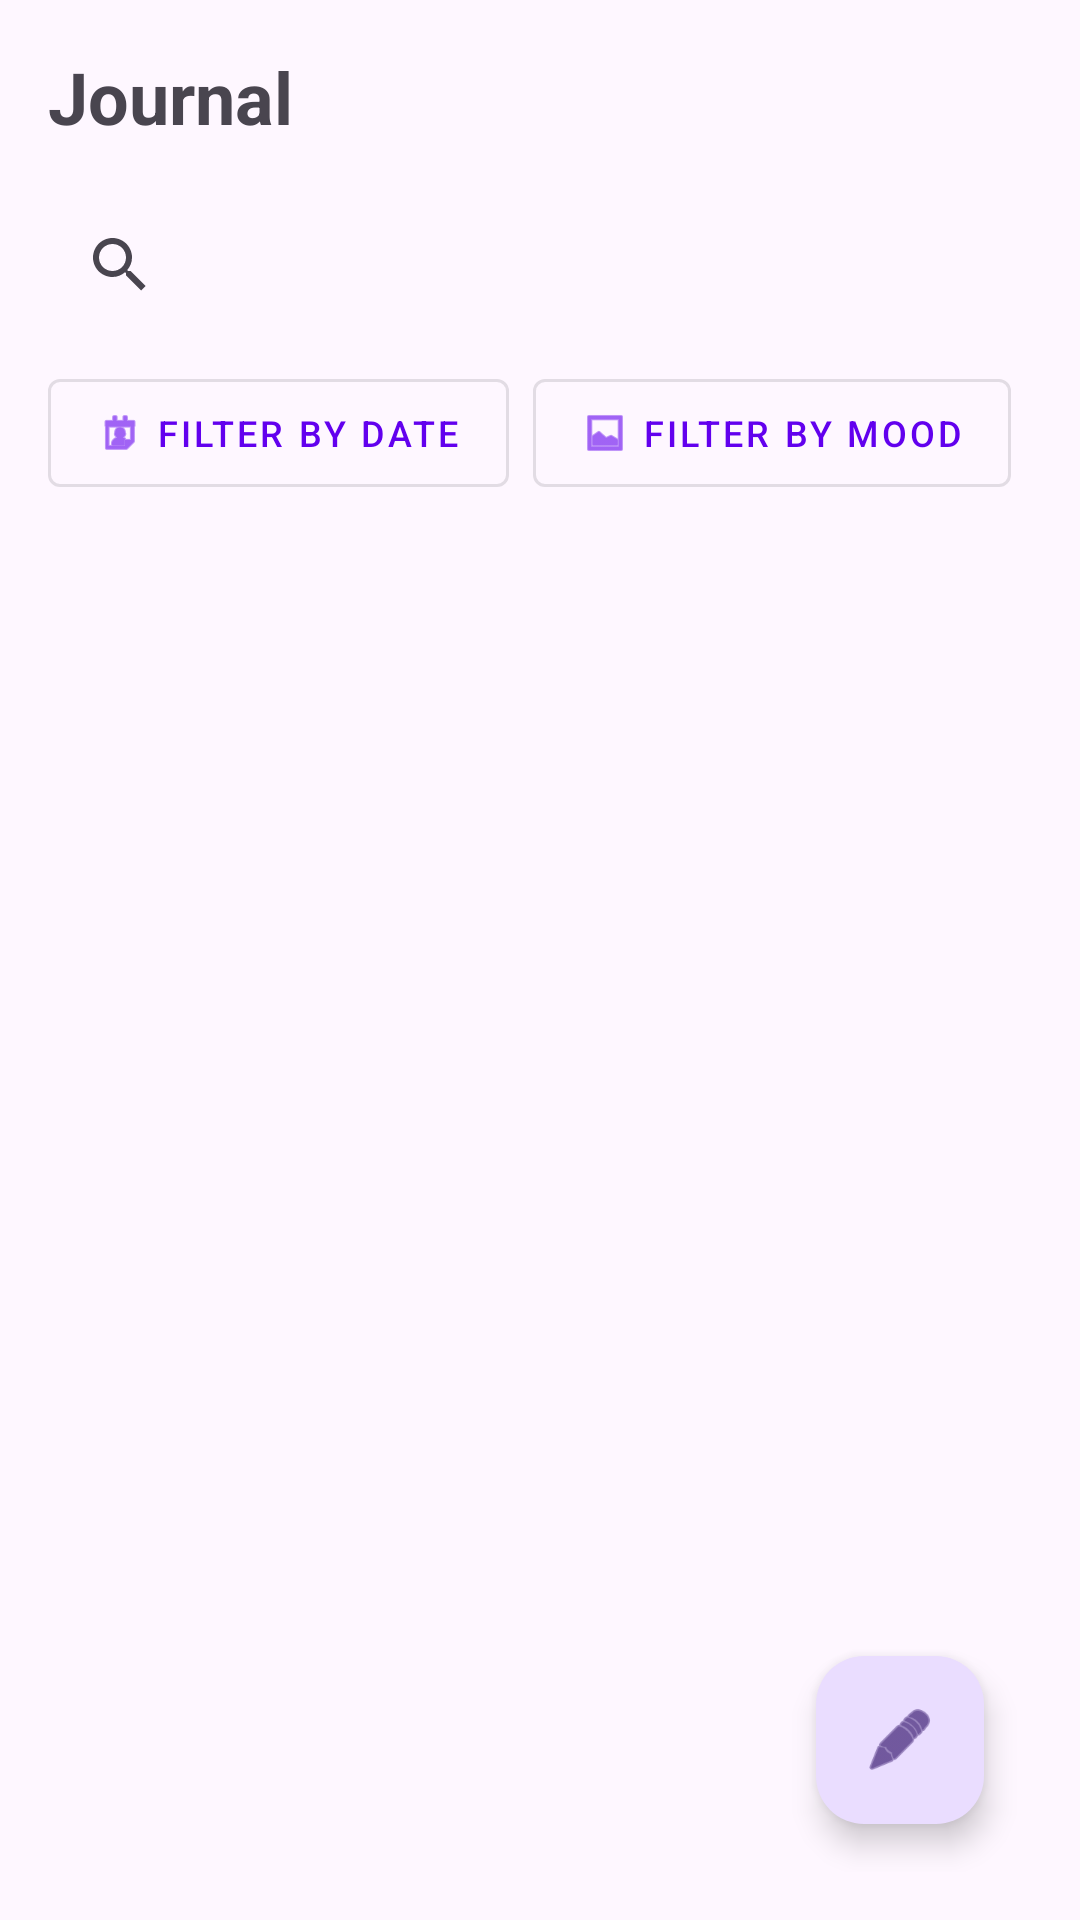

Where to tap for icons on this 1080px x 1920px app screen, as (x=x, y=y):
New Entry: (x=900, y=1740)
